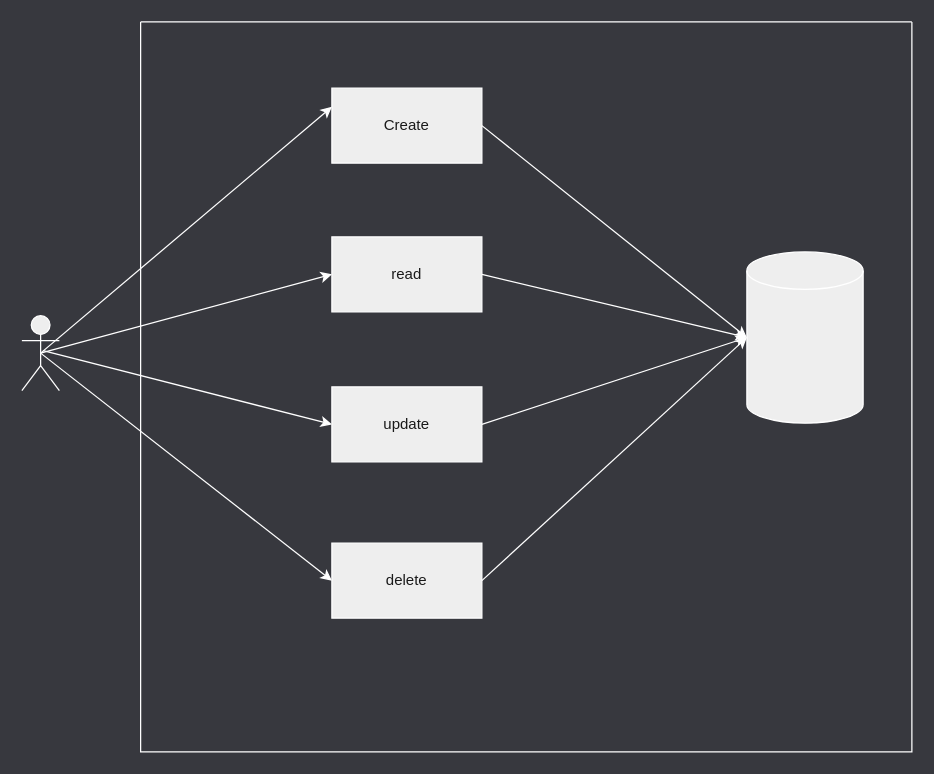
Some shapes in this 934 by 774 pixel diagram are drawn without their labels. The centre of each missing label's shape, as x and y in pixels:
"Actor" belongs at point (40, 352).
"DB" belongs at point (804, 337).
